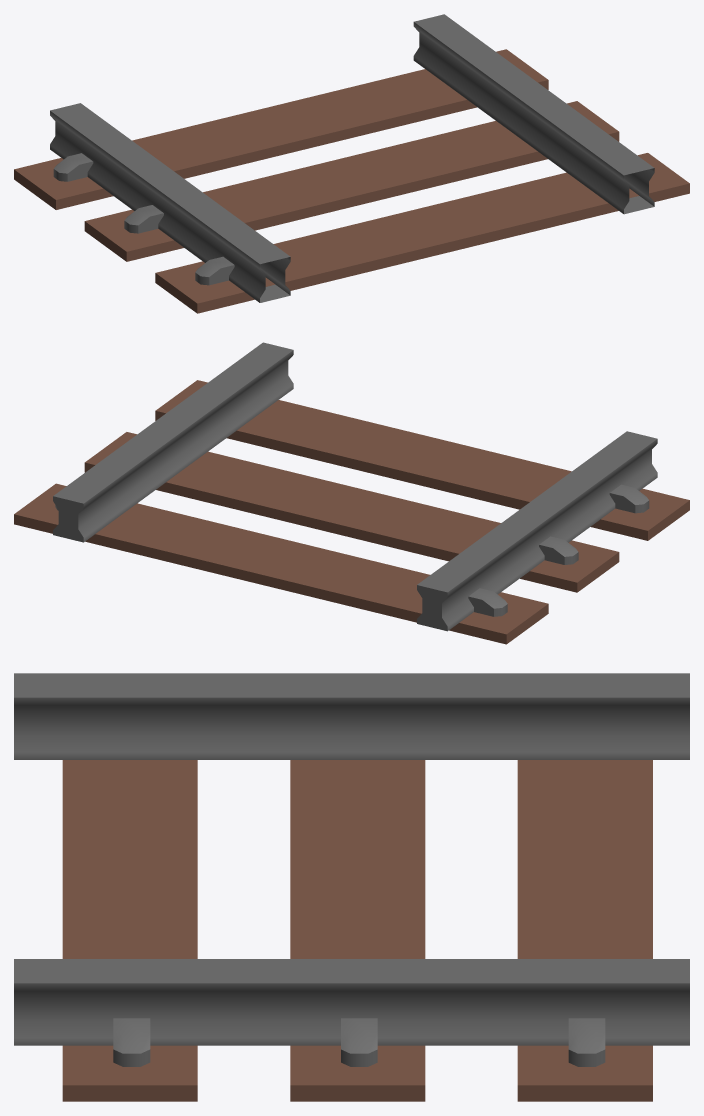
File: Trilho_reto2.fbx
3 renders of one model, top to bottom at view 1: azimuth 30°, elevation 25°; view 2: azimuth 150°, elevation 25°; view 3: azimuth 270°, elevation 25°, orthographic. The views are drawn at different scales.
Parts seen in each view (by area): view 1: trilho_reto2; view 2: trilho_reto2; view 3: trilho_reto2.
Part boxes in pixels (x1,y1,x2,y2): trilho_reto2: [14, 14, 689, 313]; trilho_reto2: [14, 342, 689, 644]; trilho_reto2: [14, 673, 689, 1101].
Bounding box in the file's own units: 203 × 19.27 × 150.
